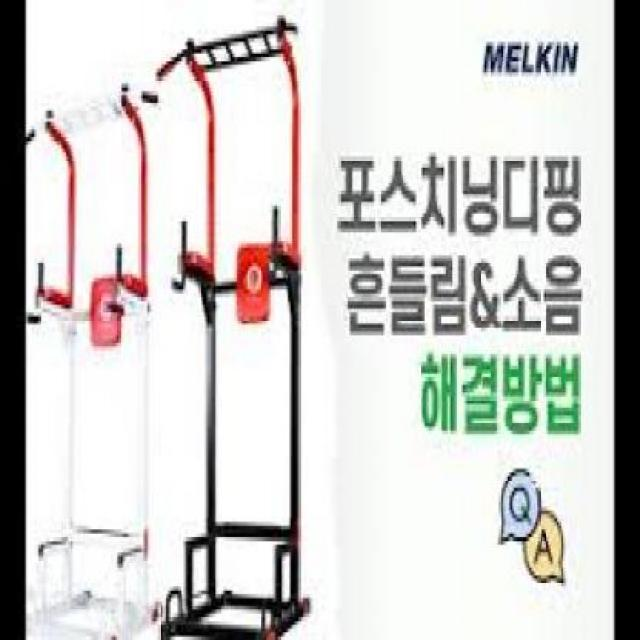chinning dipping: (157, 12, 312, 640), (26, 80, 159, 640)
